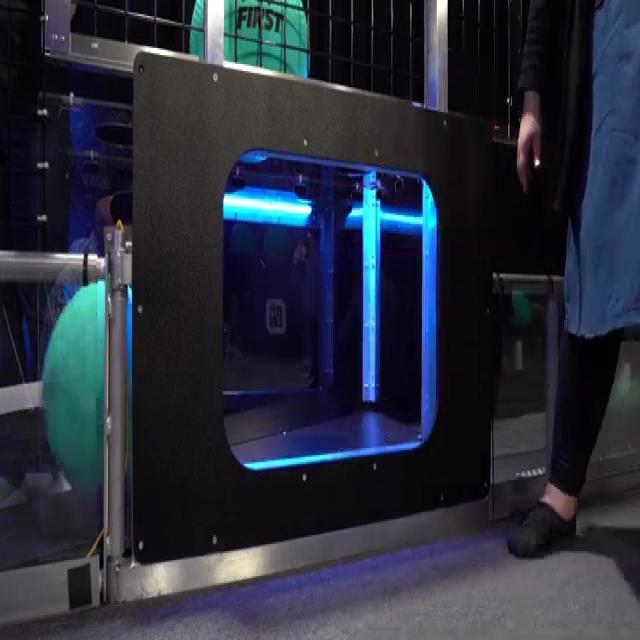Algae: (41, 276, 132, 494), (189, 0, 311, 78)
